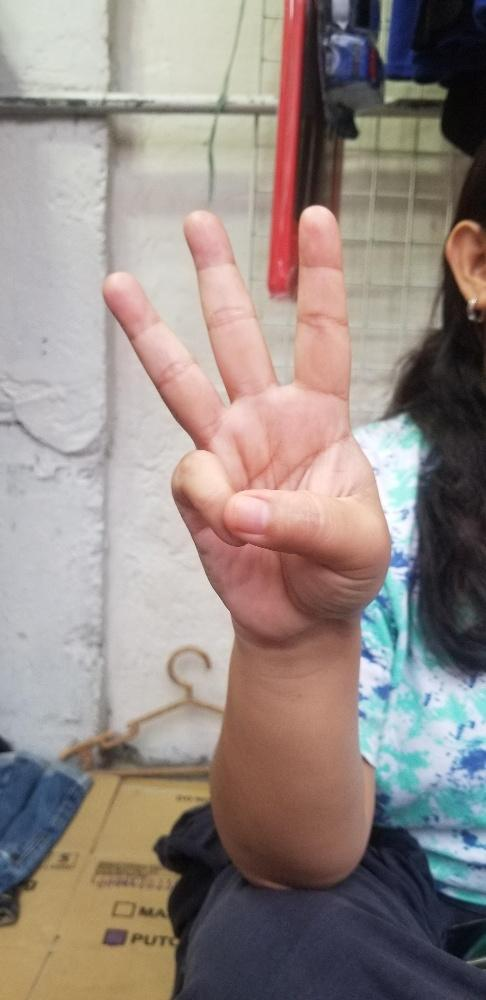w: (98, 204, 392, 639)
